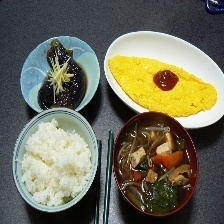rice: (14, 117, 94, 211)
